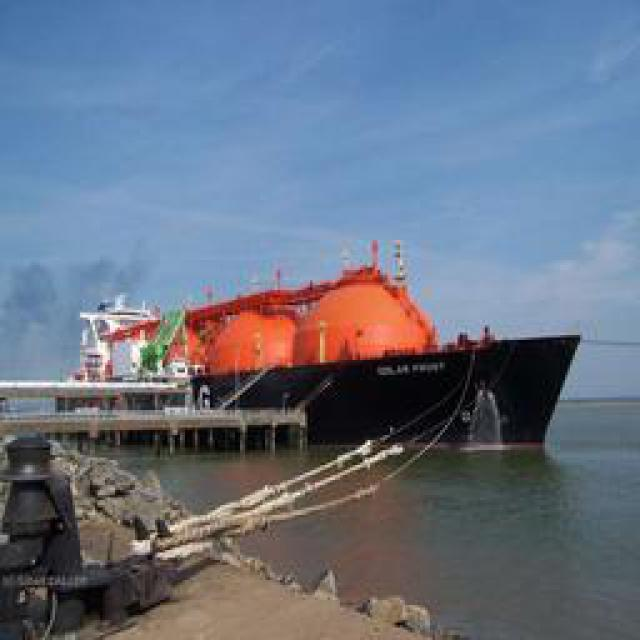Ship: (82, 248, 575, 446)
